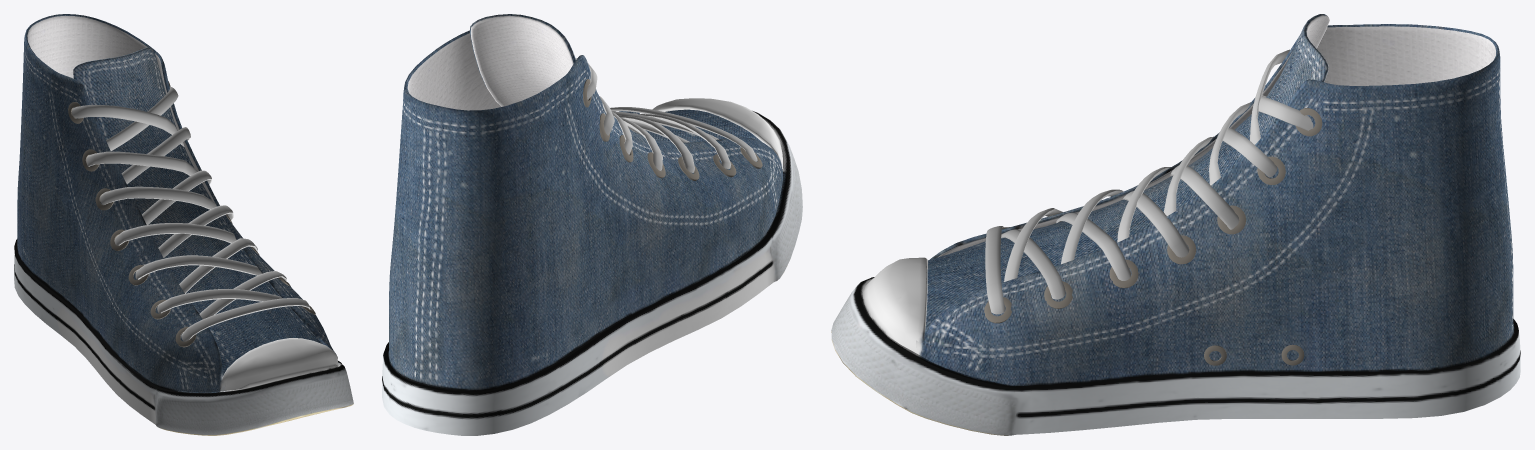
File: converse.obj
3 renders of one model, left to right at view 1: azimuth 30°, elevation 25°; view 2: azimuth 150°, elevation 25°; view 3: azimuth 270°, elevation 25°, orthographic. The views are drawn at different scales.
Visible parts, largest first — view 1: converse1, conv_tongue1, laces1; view 2: converse1, conv_tongue1, laces1; view 3: converse1, laces1, conv_tongue1.
Part boxes in pixels (<box>): converse1: <box>14,14,353,435</box>; conv_tongue1: <box>73,47,321,376</box>; laces1: <box>71,86,310,341</box>; converse1: <box>382,30,802,435</box>; conv_tongue1: <box>470,14,761,142</box>; laces1: <box>575,57,757,172</box>; converse1: <box>831,24,1520,435</box>; laces1: <box>985,49,1313,314</box>; conv_tongue1: <box>924,14,1329,338</box>.
Size of the model in its own units: 3.68 by 5.69 by 10.09.
Materials: 3 (1 with a texture image).
